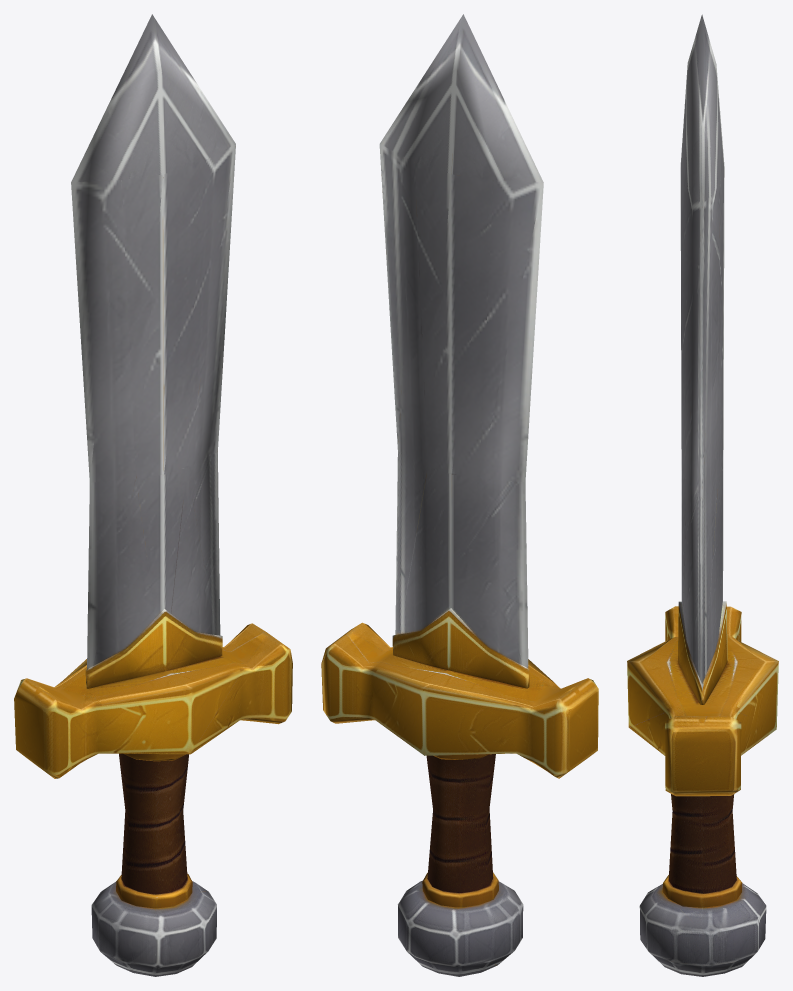
File: sword_lv1.glb
3 renders of one model, left to right at view 1: azimuth 30°, elevation 25°; view 2: azimuth 150°, elevation 25°; view 3: azimuth 270°, elevation 25°, orthographic.
Size of the model in its own units: 0.2711 by 1 by 0.1441.
1 material, 1 textured.
